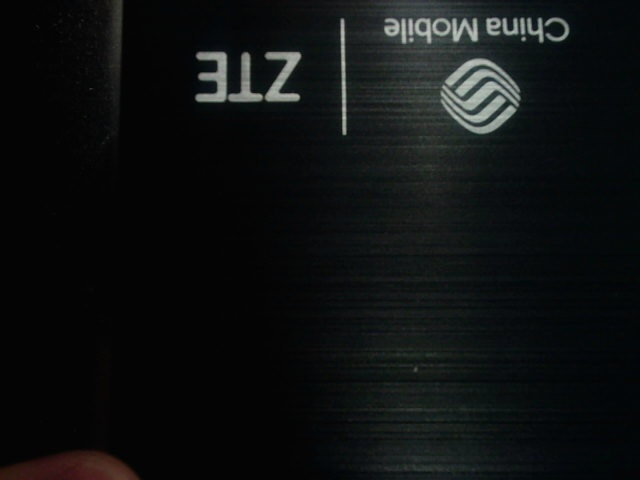AL_ZTEChinaMobile: (182, 11, 582, 141)
